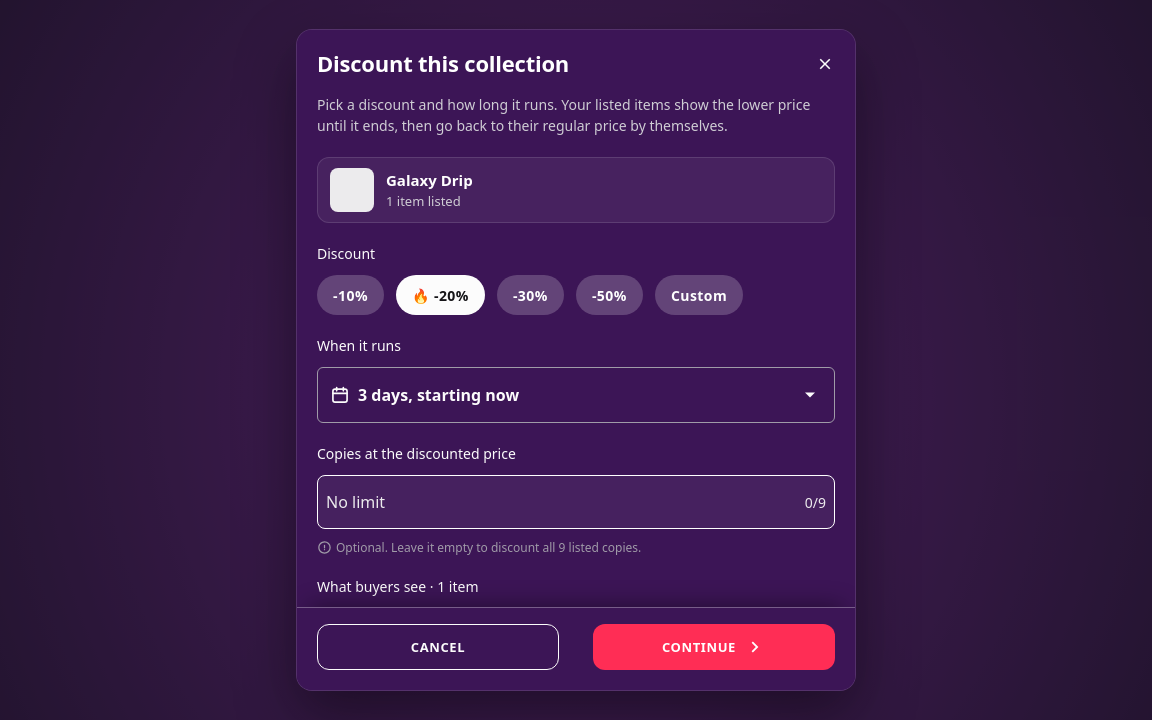
it: when a creator discounts a collection from the builder › should cap the copies at what is listed
Type "50" into the field with test id "creator-sale-cap" at (561,502), box [326,484,797,520]
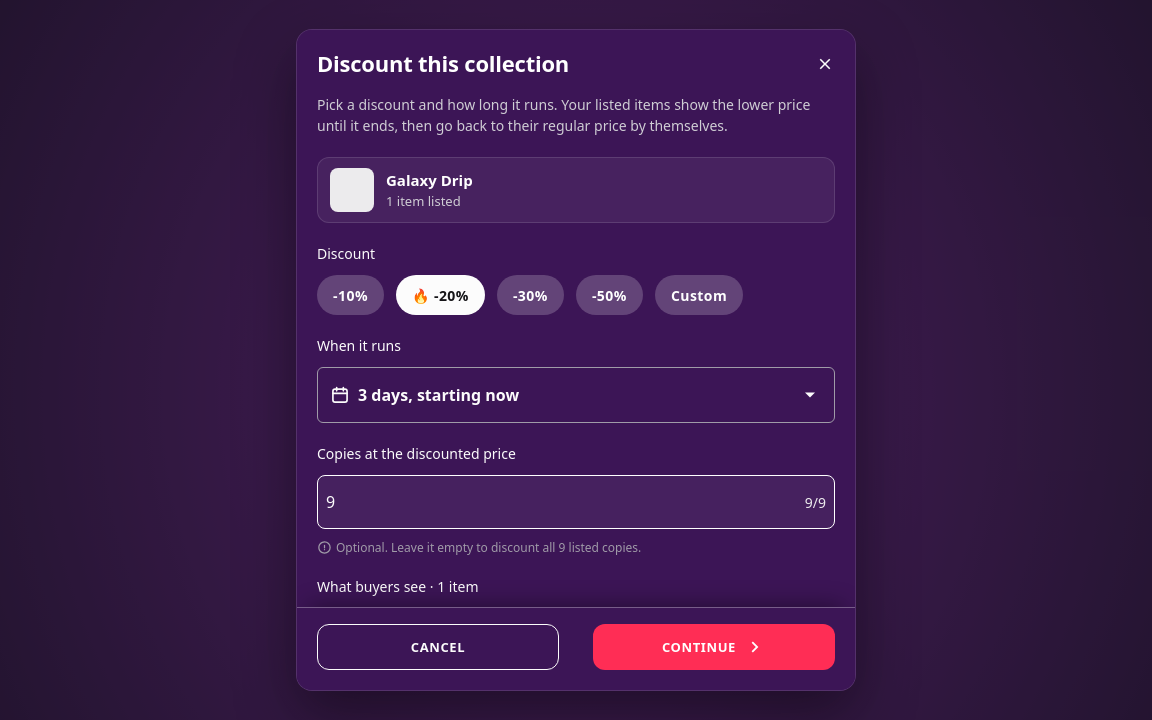
Result: the text with test id "creator-sale-cap-count" reads "9/9" at [805,493,826,512]
